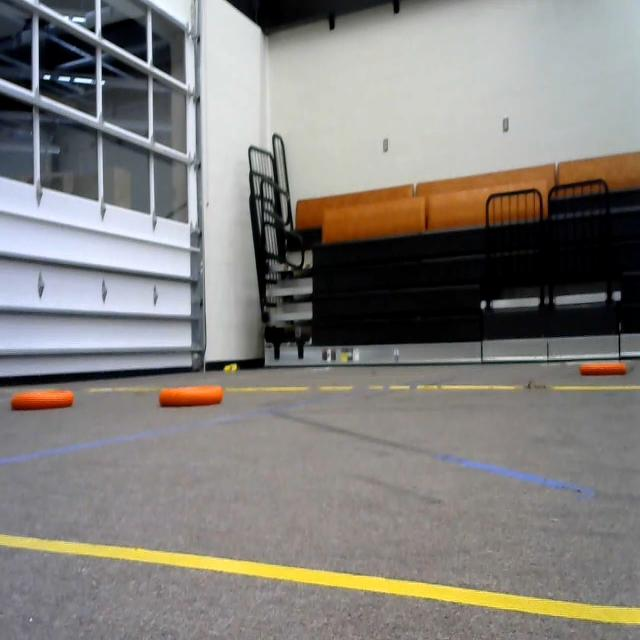note: (154, 375, 230, 425), (0, 379, 79, 418), (574, 346, 634, 381)
